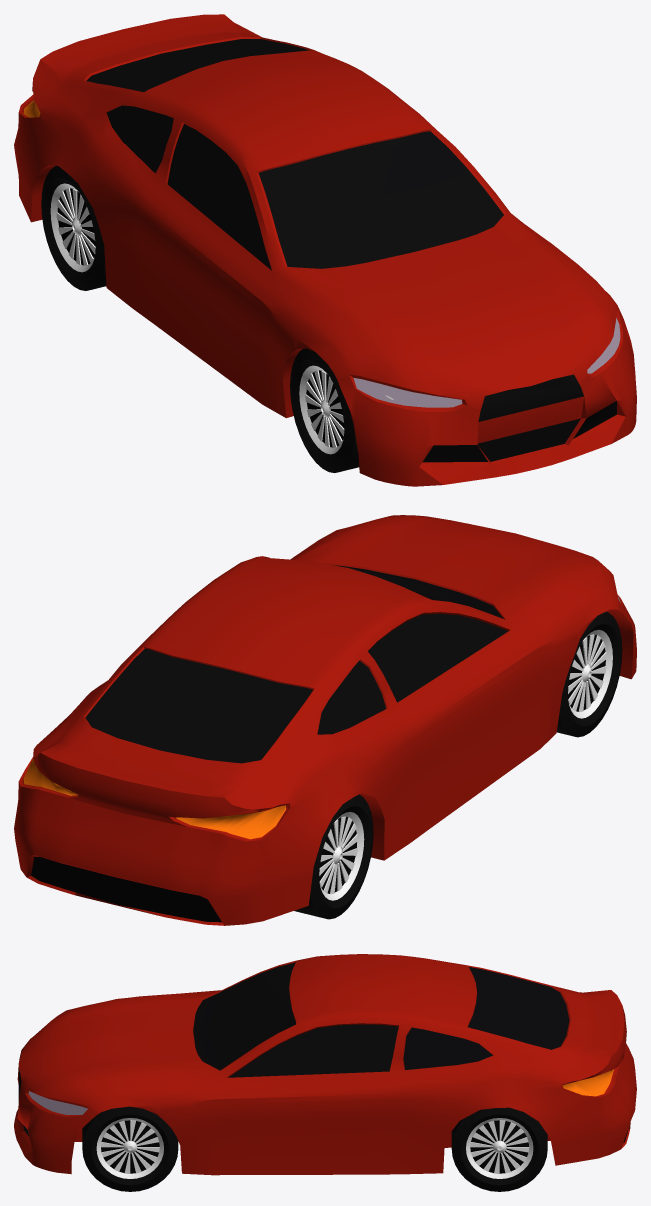
3 renders of one model, top to bottom at view 1: azimuth 30°, elevation 25°; view 2: azimuth 150°, elevation 25°; view 3: azimuth 270°, elevation 25°, orthographic. The views are drawn at different scales.
Visible parts, largest first — view 1: Cube, Cylinder.002, Cylinder.001; view 2: Cube, Cylinder.001, Cylinder.002; view 3: Cube, Cylinder.004, Cylinder.003.
Part boxes in pixels (<box>): Cube: <box>14,14,636,486</box>; Cylinder.002: <box>290,348,359,472</box>; Cylinder.001: <box>41,165,106,290</box>; Cube: <box>14,515,636,925</box>; Cylinder.001: <box>294,794,373,919</box>; Cylinder.002: <box>557,611,622,737</box>; Cube: <box>14,954,636,1175</box>; Cylinder.004: <box>451,1107,547,1191</box>; Cylinder.003: <box>82,1106,178,1191</box>.
Size of the model in its own units: 387 by 288 by 985.
2 materials, 2 textured.
